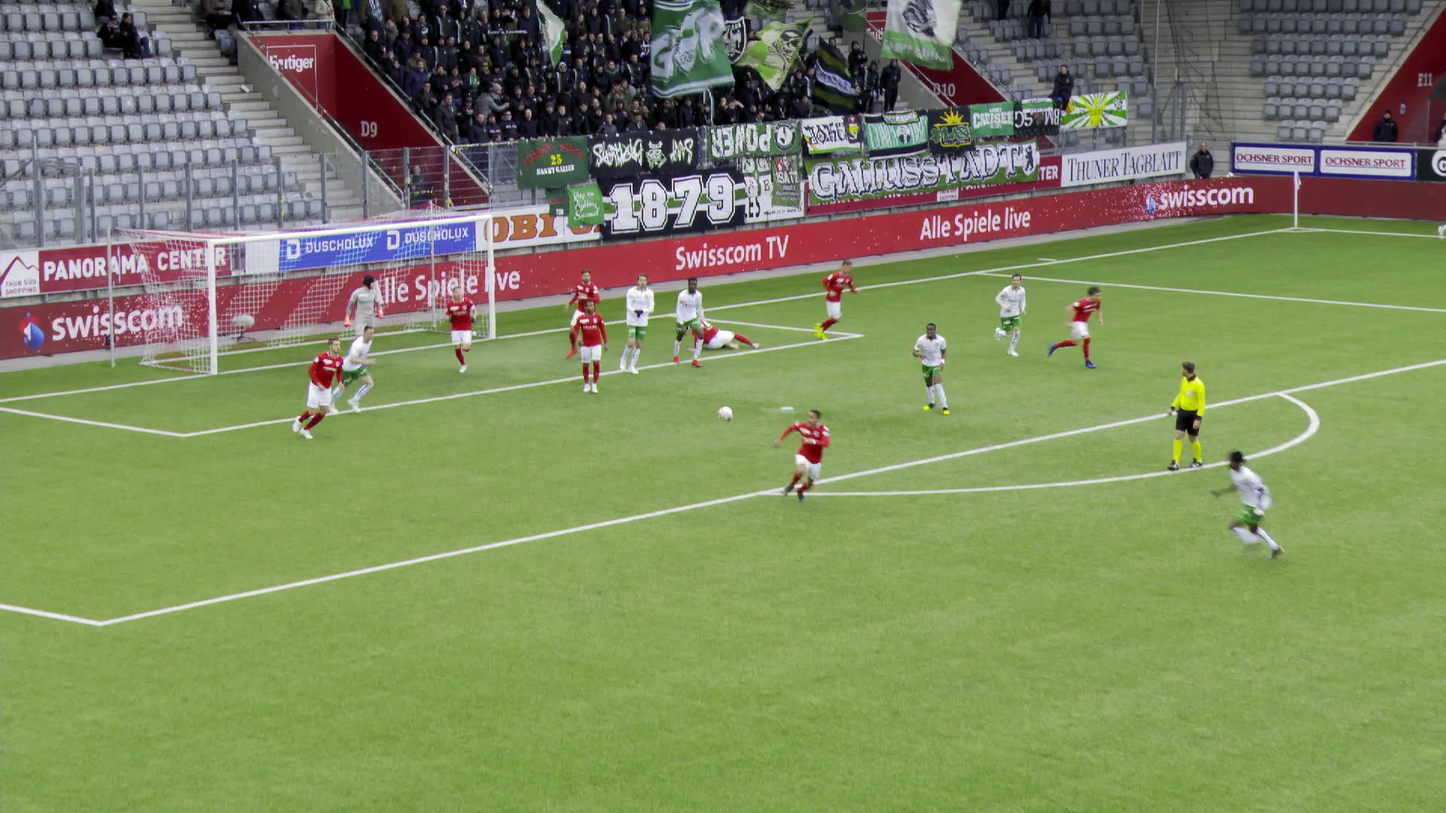ball: (718, 405, 732, 420)
player: (1223, 452, 1289, 564), (779, 410, 839, 510), (296, 335, 345, 441), (1045, 284, 1106, 367), (801, 262, 856, 341), (331, 327, 375, 413), (618, 276, 654, 376), (911, 321, 949, 415), (573, 300, 609, 394), (671, 276, 707, 367), (565, 269, 600, 361), (343, 276, 381, 357), (444, 284, 477, 373), (991, 272, 1025, 357), (684, 316, 758, 352)
referee: (1163, 359, 1208, 472)
